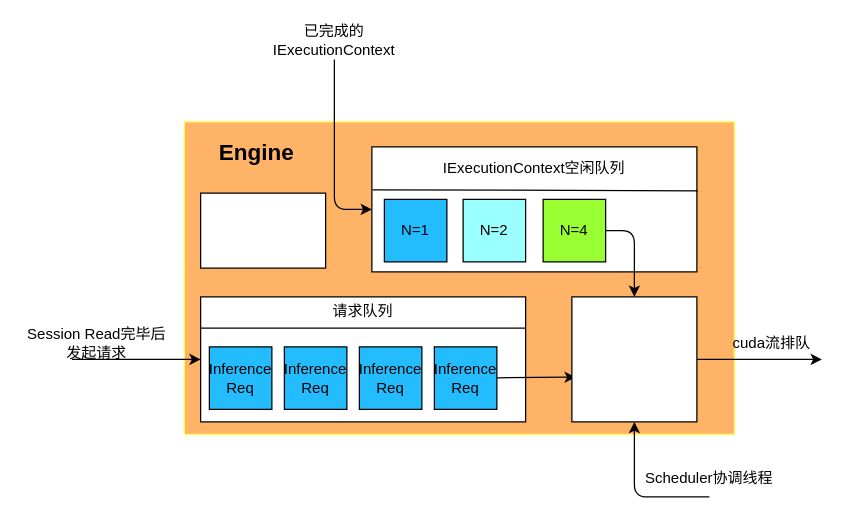
The diagram is 854 pixels wide and 529 high, and some of its shapes have lost their labels. Here are the shapes that lost their labels. From the top down, the box of each, then its label:
(199, 192, 326, 268): .Engine引擎文件
(571, 296, 697, 422): 动态批处理
